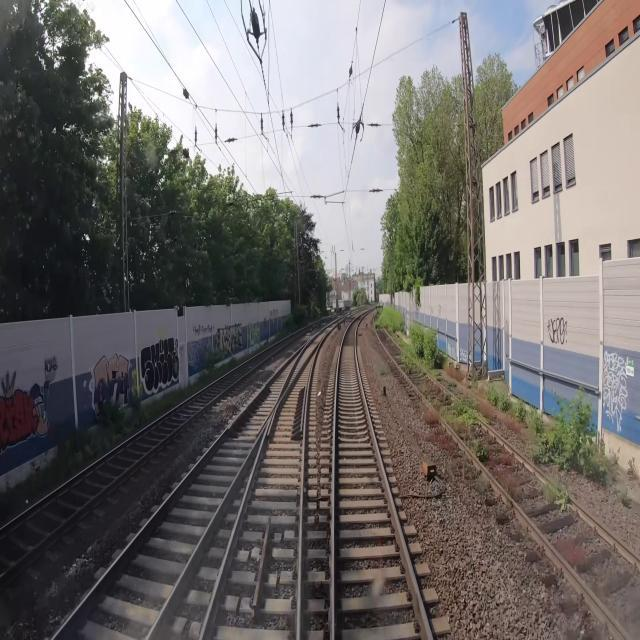Plant: (444, 399, 491, 462), (396, 337, 444, 381), (429, 433, 469, 479), (526, 441, 572, 471), (555, 538, 587, 573), (546, 480, 572, 512), (375, 308, 397, 334), (431, 394, 446, 418), (474, 474, 488, 494), (424, 409, 440, 424)
